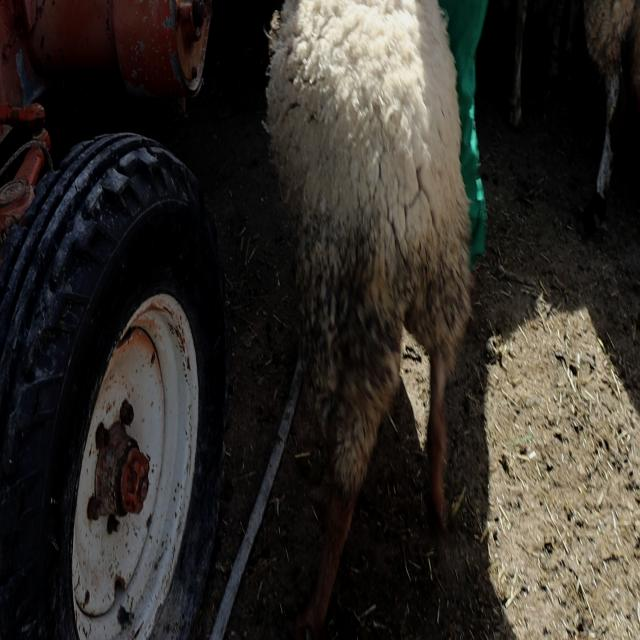Score_5: (266, 0, 473, 639)
